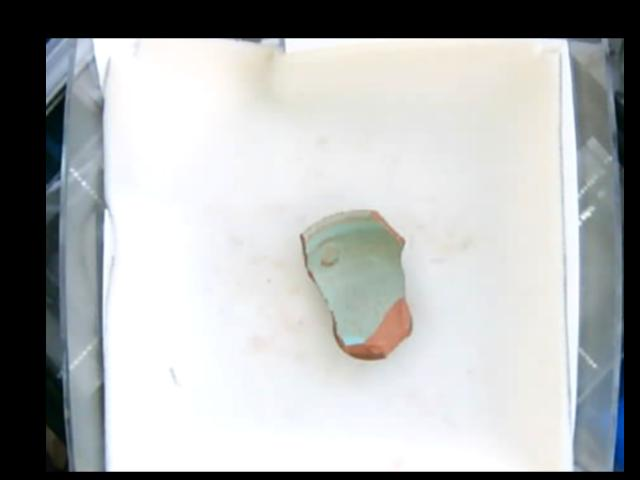China: (295, 208, 411, 359)
